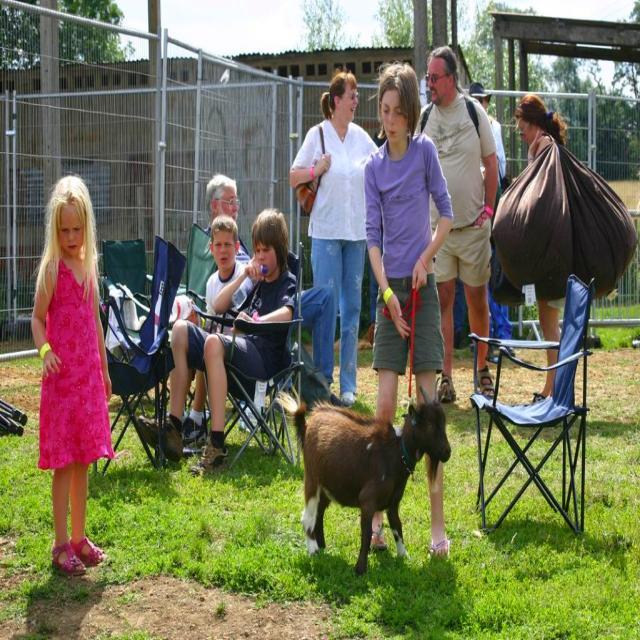Goat: (273, 386, 451, 575)
